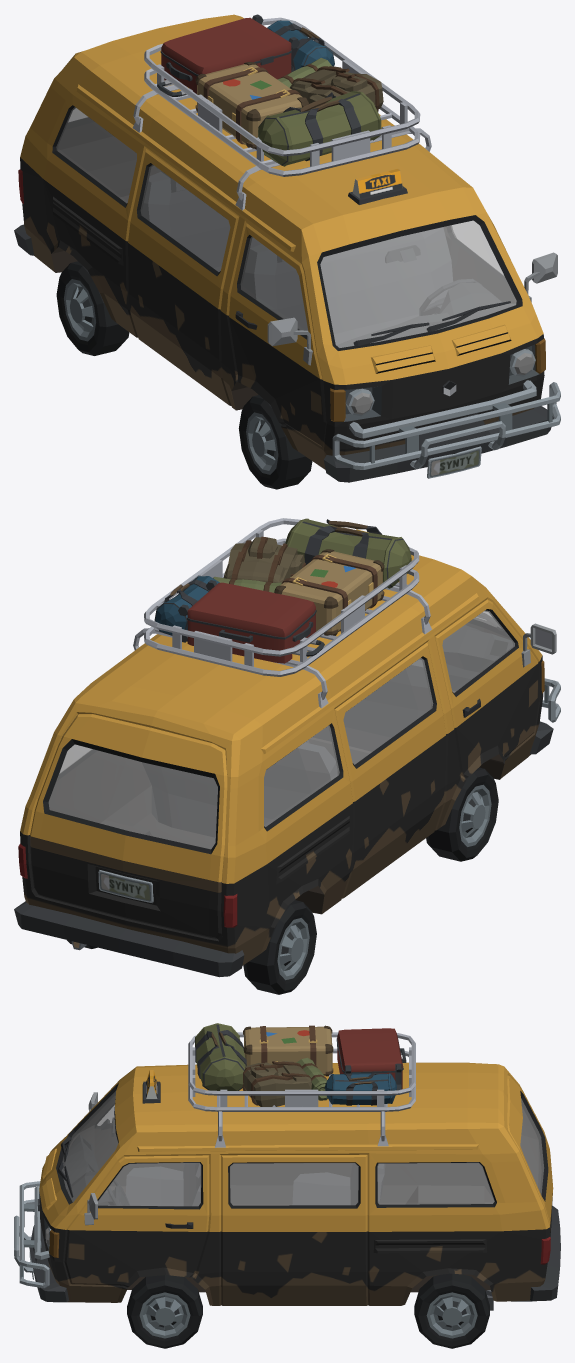
The model's file is SM_Veh_Van_02.fbx.
3 renders of one model, top to bottom at view 1: azimuth 30°, elevation 25°; view 2: azimuth 150°, elevation 25°; view 3: azimuth 270°, elevation 25°, orthographic. The views are drawn at different scales.
Visible parts, largest first — view 1: SM_Veh_Van_02, SM_Veh_Van_02_Glass, SM_Veh_Van_02_Luggage, SM_Veh_Van_02_Rack, SM_Veh_Van_02_Bumper, SM_Veh_Van_02_Wheel_fr, SM_Veh_Van_02_Wheel_rr, SM_Veh_Van_02_Door, SM_Veh_Van_02_Sign, SM_Veh_Van_02_SteeringW; view 2: SM_Veh_Van_02, SM_Veh_Van_02_Door, SM_Veh_Van_02_Luggage, SM_Veh_Van_02_Glass, SM_Veh_Van_02_Door_Glass, SM_Veh_Van_02_Rack, SM_Veh_Van_02_Wheel_rr, SM_Veh_Van_02_Wheel_fr, SM_Veh_Van_02_Bumper; view 3: SM_Veh_Van_02, SM_Veh_Van_02_Glass, SM_Veh_Van_02_Luggage, SM_Veh_Van_02_Rack, SM_Veh_Van_02_Wheel_rl, SM_Veh_Van_02_Wheel_fl, SM_Veh_Van_02_Door, SM_Veh_Van_02_Bumper, SM_Veh_Van_02_Door_Glass, SM_Veh_Van_02_Sign.
Part boxes in pixels (box(x1,y1,x2,y2)): SM_Veh_Van_02: box(14, 14, 557, 482); SM_Veh_Van_02_Glass: box(56, 107, 516, 347); SM_Veh_Van_02_Luggage: box(157, 14, 383, 166); SM_Veh_Van_02_Rack: box(132, 17, 431, 210); SM_Veh_Van_02_Bumper: box(332, 380, 560, 469); SM_Veh_Van_02_Wheel_fr: box(238, 395, 312, 489); SM_Veh_Van_02_Wheel_rr: box(56, 261, 129, 355); SM_Veh_Van_02_Door: box(58, 117, 160, 197); SM_Veh_Van_02_Sign: box(348, 169, 407, 204); SM_Veh_Van_02_SteeringW: box(419, 279, 481, 315); SM_Veh_Van_02: box(14, 555, 556, 977); SM_Veh_Van_02_Door: box(30, 714, 227, 938); SM_Veh_Van_02_Luggage: box(154, 518, 411, 663); SM_Veh_Van_02_Glass: box(60, 610, 514, 826); SM_Veh_Van_02_Door_Glass: box(48, 744, 217, 849); SM_Veh_Van_02_Rack: box(133, 518, 431, 708); SM_Veh_Van_02_Wheel_rr: box(243, 900, 316, 994); SM_Veh_Van_02_Wheel_fr: box(426, 767, 498, 861); SM_Veh_Van_02_Bumper: box(542, 678, 560, 722); SM_Veh_Van_02: box(29, 1062, 560, 1310); SM_Veh_Van_02_Glass: box(62, 1091, 494, 1206); SM_Veh_Van_02_Luggage: box(195, 1023, 406, 1106); SM_Veh_Van_02_Rack: box(188, 1032, 415, 1147); SM_Veh_Van_02_Wheel_rl: box(414, 1273, 489, 1348); SM_Veh_Van_02_Wheel_fl: box(127, 1275, 202, 1348); SM_Veh_Van_02_Door: box(507, 1075, 553, 1236); SM_Veh_Van_02_Bumper: box(14, 1181, 49, 1288); SM_Veh_Van_02_Door_Glass: box(520, 1098, 543, 1194); SM_Veh_Van_02_Sign: box(142, 1070, 160, 1103).
Bounding box in the file's own units: 229 × 255 × 476.
